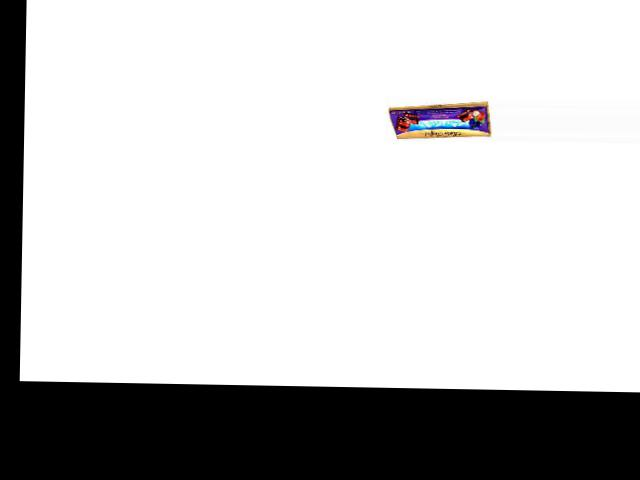chocolate: (383, 99, 491, 136)
